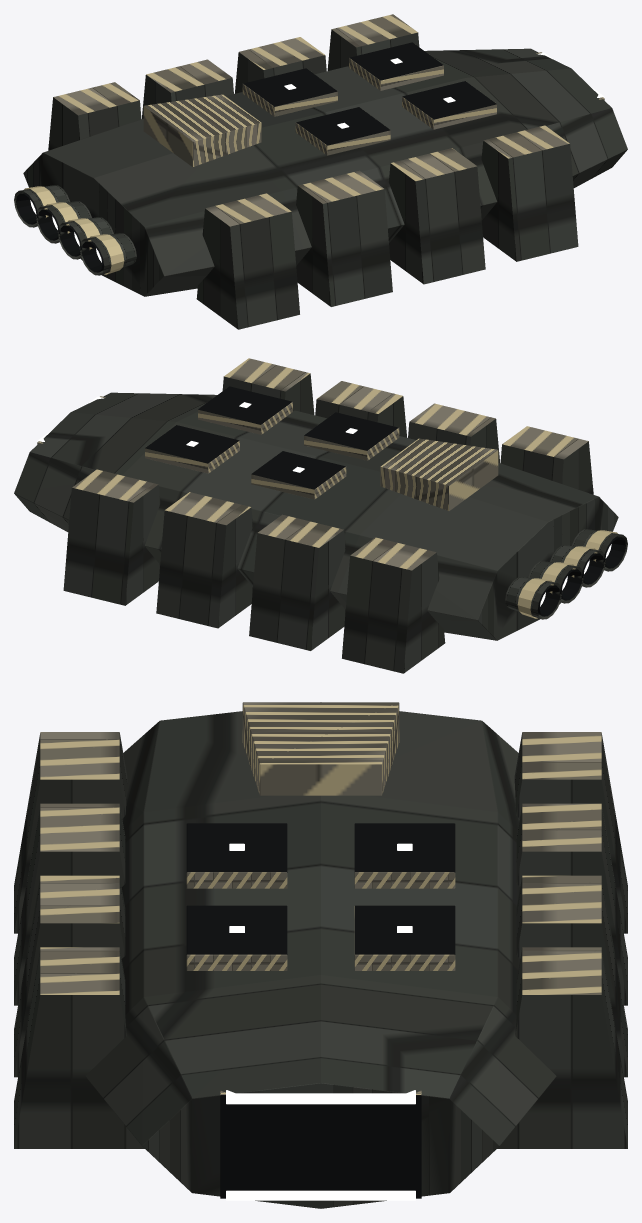
The model's file is assault.glb.
3 views of the same model, one above another, from view 1: azimuth 30°, elevation 25°; view 2: azimuth 150°, elevation 25°; view 3: azimuth 270°, elevation 25° (orthographic). The views are drawn at different scales.
Parts seen in each view (by area): view 1: assault; view 2: assault; view 3: assault.
Boxes of the visible parts, x1=… form: assault: x1=14, y1=14, x2=627, y2=329; assault: x1=14, y1=358, x2=627, y2=673; assault: x1=14, y1=702, x2=627, y2=1208.
Bounding box in the file's own units: 30 × 7.73 × 19.52.
1 material, 1 textured.
